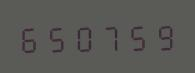five: (43, 20, 68, 53), (122, 19, 147, 52)
nine: (148, 19, 173, 51)
seven: (96, 20, 121, 52)
six: (17, 21, 42, 53)
zero: (70, 20, 95, 53)
